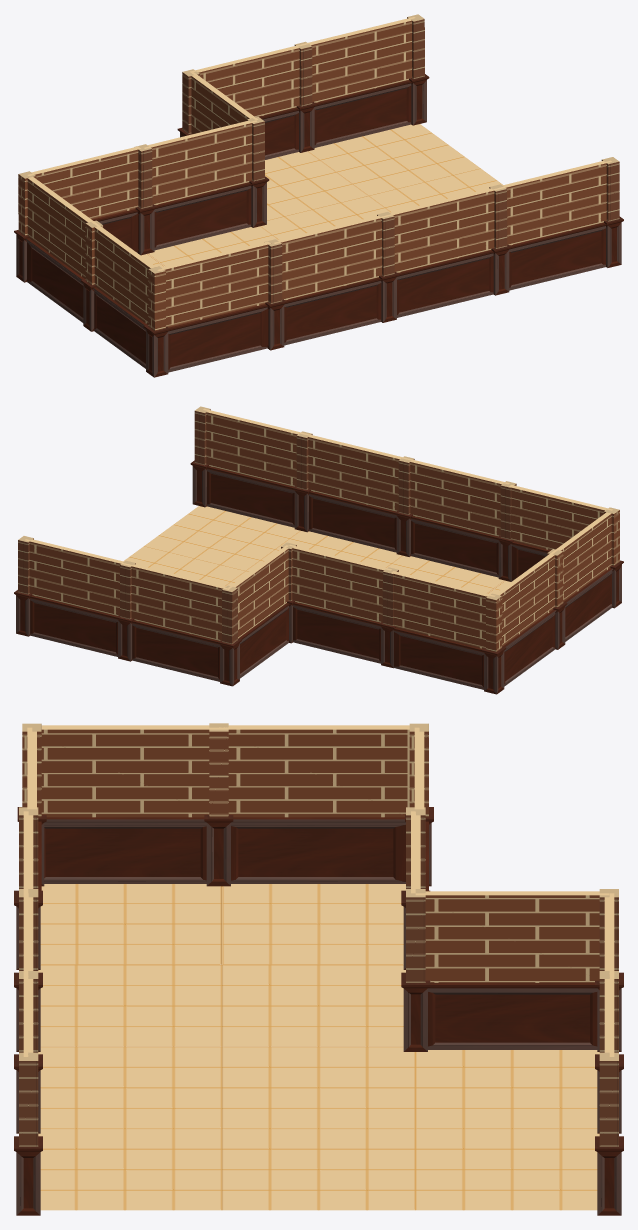
Rendered from bakery.gltf.
3 views of the same model, one above another, from view 1: azimuth 30°, elevation 25°; view 2: azimuth 150°, elevation 25°; view 3: azimuth 270°, elevation 25° (orthographic). The views are drawn at different scales.
Visible parts, largest first — view 1: WallWood.003; view 2: WallWood.003; view 3: WallWood.003.
Boxes of the visible parts, x1=… form: WallWood.003: x1=14, y1=14, x2=623, y2=377; WallWood.003: x1=14, y1=406, x2=623, y2=694; WallWood.003: x1=14, y1=723, x2=623, y2=1215.
Bounding box in the file's own units: 16.7 × 3.5 × 12.6.
